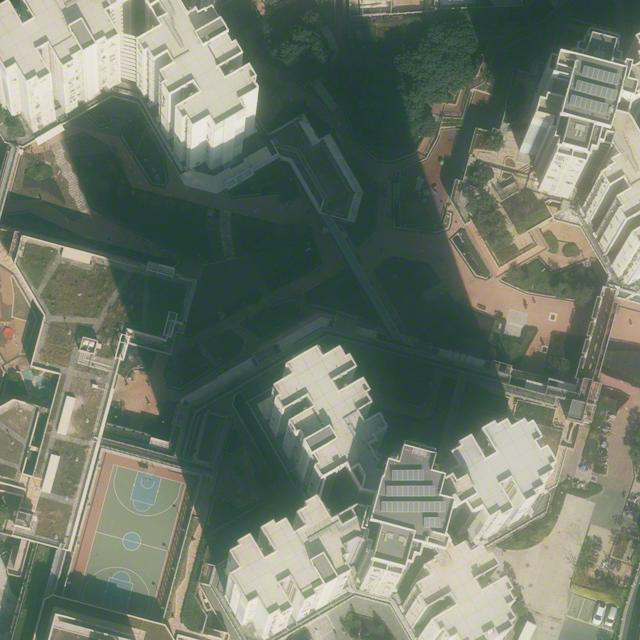SolarPanel: (573, 80, 619, 101), (569, 94, 610, 115), (381, 501, 448, 513), (581, 65, 621, 85), (386, 486, 436, 496), (390, 468, 425, 482), (423, 517, 441, 529)
